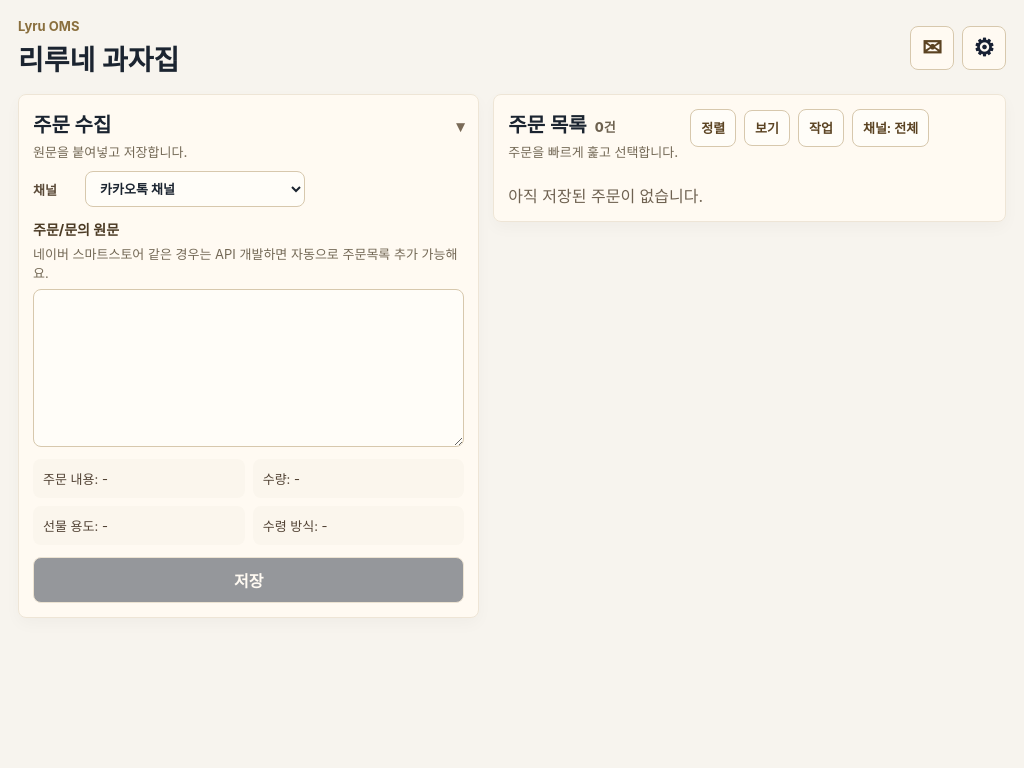
Test: App › keeps owner questions hidden behind the header note control
Check: the heading "리루네 과자집" is shown, box x1=18 y1=38 x2=179 y2=78
Check: the text box labelled "주문/문의 원문" is shown, box x1=33 y1=289 x2=464 y2=447
Click the button named "사장님께 확인할 질문": (932,48) x1=910 y1=26 x2=954 y2=70
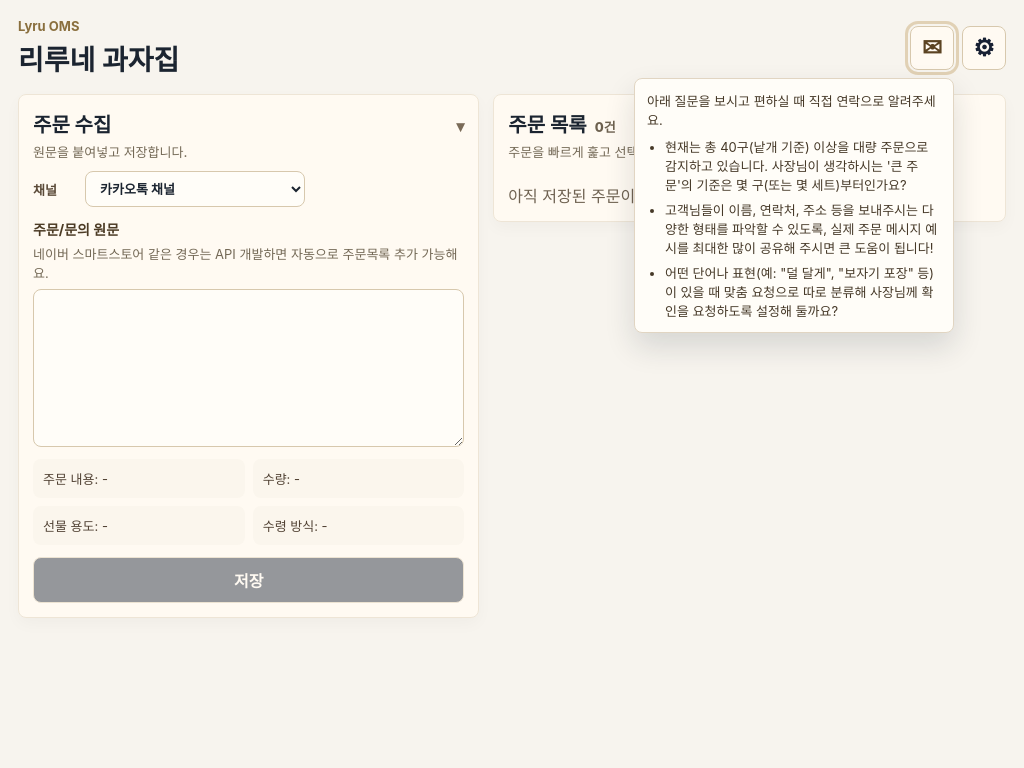
Check: the button named "메뉴" reads "⚙", box x1=962 y1=26 x2=1006 y2=70
Check: the element named "확인 질문 쪽지" is shown, box x1=634 y1=78 x2=954 y2=333
